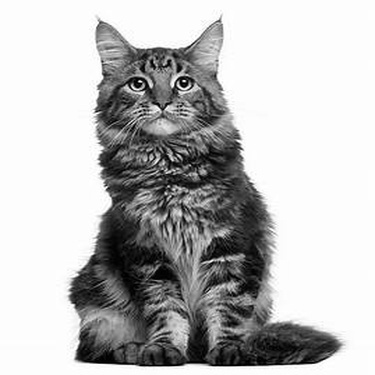cat: (68, 15, 341, 367)
